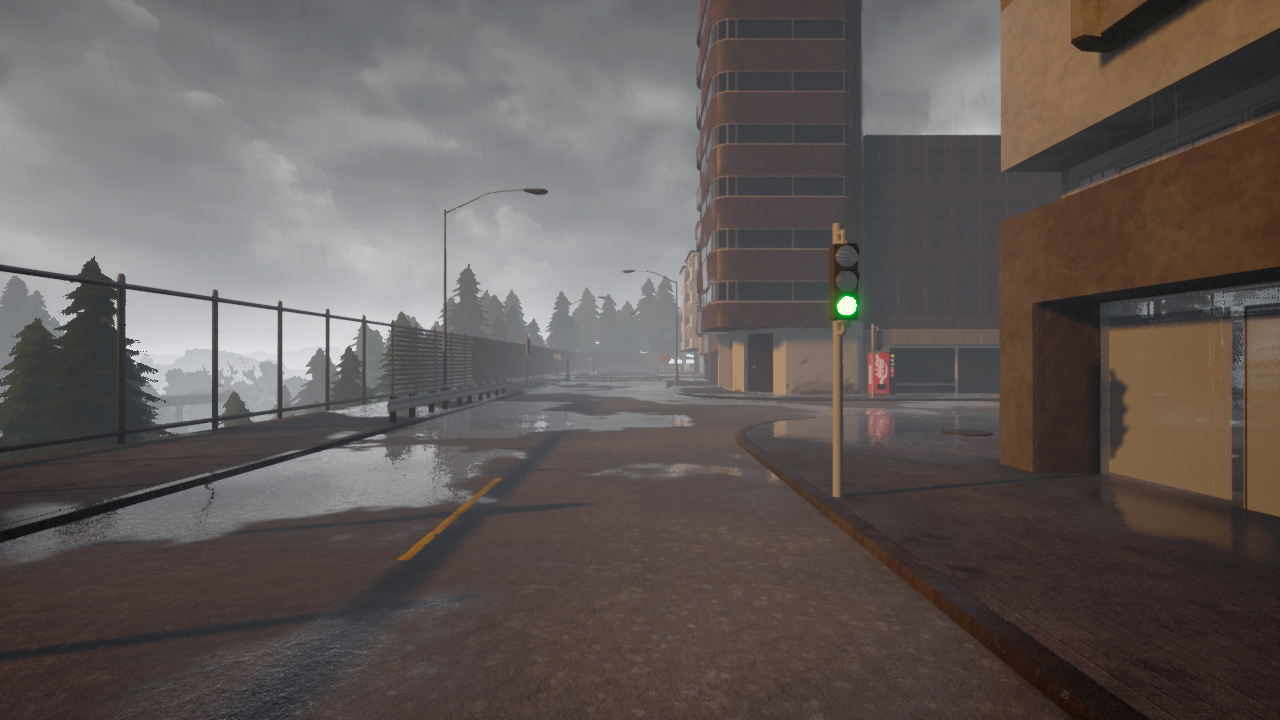green: (828, 243, 861, 321)
